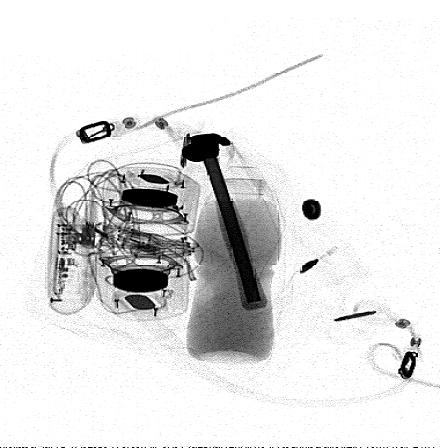Hammer: (180, 133, 270, 311)
